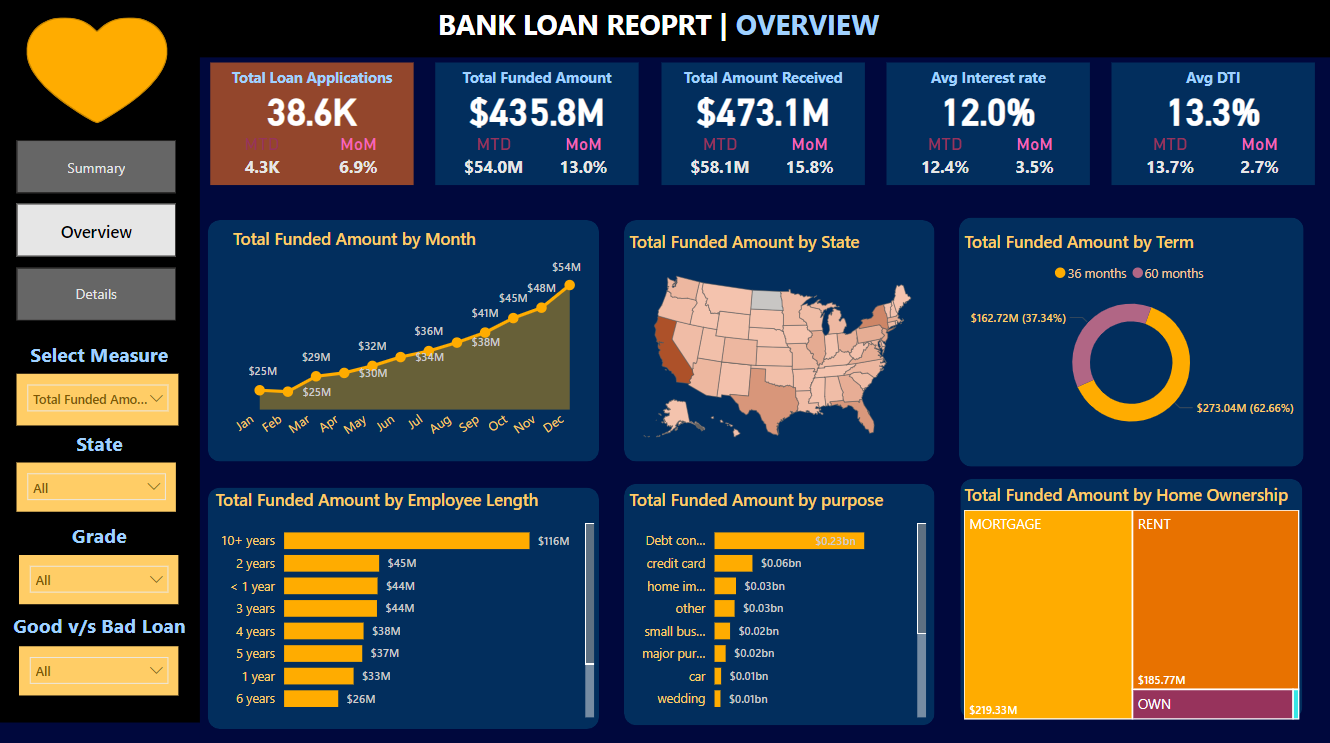

What the dashboard file says about the page in this screenshot:
{"tool":"powerbi","page":{"name":"Overview","canvas":[1280,720],"ordinal":1},"visuals":[{"type":"shape","title":"cassa","box":[0,28.4,192.6,664.2],"z":0},{"type":"shape","box":[202.5,60,195,117.5],"z":0,"group":"g1"},{"type":"shape","box":[418.7,60,195,117.5],"z":0,"group":"g2"},{"type":"shape","box":[635,60,195,117.5],"z":0,"group":"g3"},{"type":"shape","box":[851.2,60.3,195,117.5],"z":0,"group":"g4"},{"type":"shape","box":[1066.7,60.5,195,117.5],"z":0,"group":"g5"},{"type":"shape","box":[0,0,1280,55],"z":1000},{"type":"card","fields":{"Values":["bank_loan_data.Total Loan Applications"]},"box":[202.5,80,195,48.8],"z":1000,"group":"g1"},{"type":"card","fields":{"Values":["bank_loan_data.Total Funded Amount"]},"box":[418.7,80,195,48.8],"z":1000,"group":"g2"},{"type":"card","fields":{"Values":["bank_loan_data.Total Amount Received"]},"box":[635,80,195,48.8],"z":1000,"group":"g3"},{"type":"card","fields":{"Values":["bank_loan_data.Avg Interest Rate"]},"box":[851.2,80.3,195,48.8],"z":1000,"group":"g4"},{"type":"card","fields":{"Values":["bank_loan_data.Avg DTI"]},"box":[1066.7,80.5,195,48.8],"z":1000,"group":"g5"},{"type":"shape","box":[920.5,208.7,330.6,238.9],"z":1000,"group":"g8"},{"type":"shape","box":[200,211,375.2,231.6],"z":1000,"group":"g6"},{"type":"shape","box":[599.7,211.1,297.9,231.6],"z":1000,"group":"g7"},{"type":"shape","box":[921.1,459.3,328.2,230.4],"z":1000,"group":"g10"},{"type":"shape","box":[200.3,466.9,375.2,231.6],"z":1000,"group":"g9"},{"type":"textbox","box":[202.5,60,195,40],"z":2000,"group":"g1"},{"type":"textbox","box":[418.7,60,195,40],"z":2000,"group":"g2"},{"type":"textbox","box":[635,60,195,40],"z":2000,"group":"g3"},{"type":"textbox","box":[851.2,60.3,195,40],"z":2000,"group":"g4"},{"type":"textbox","box":[1066.7,60.5,195,40],"z":2000,"group":"g5"},{"type":"shape","box":[599.7,463.3,297.9,231.6],"z":2000},{"type":"textbox","box":[416.2,0,447.5,55],"z":3000},{"type":"card","title":"MTD","fields":{"Values":["bank_loan_data.MTD Loan Applications"]},"box":[222.5,128.8,58.8,46.2],"z":3000,"group":"g1"},{"type":"card","title":"MTD","fields":{"Values":["bank_loan_data.MTD Funded Amount"]},"box":[438.4,128.8,73.8,46.2],"z":3000,"group":"g2"},{"type":"card","title":"MTD","fields":{"Values":["bank_loan_data.MTD Total Amount Received"]},"box":[654.7,128.8,73.8,46.2],"z":3000,"group":"g3"},{"type":"card","title":"MTD","fields":{"Values":["bank_loan_data.MTD Avg Int Rate"]},"box":[870.9,129.1,73.8,46.2],"z":3000,"group":"g4"},{"type":"card","title":"MTD","fields":{"Values":["bank_loan_data.MTD Avg DTI"]},"box":[1086.4,129.3,73.8,46.2],"z":3000,"group":"g5"},{"type":"group","id":"g1","title":"Group 1","box":[202.5,60,195,117.5],"z":4000},{"type":"card","title":"MoM","fields":{"Values":["bank_loan_data.MoM Loan Application"]},"box":[315,128.8,58.8,46.2],"z":4000,"group":"g1"},{"type":"card","title":"MoM","fields":{"Values":["bank_loan_data.MoM Total Funded Amount"]},"box":[531.2,128.8,58.8,46.2],"z":4000,"group":"g2"},{"type":"card","title":"MoM","fields":{"Values":["bank_loan_data.MoM Total Amount Received"]},"box":[747.5,128.8,58.8,46.2],"z":4000,"group":"g3"},{"type":"card","title":"MoM","fields":{"Values":["bank_loan_data.MoM Avg Int Rate"]},"box":[963.7,129.1,58.8,46.2],"z":4000,"group":"g4"},{"type":"card","title":"MoM","fields":{"Values":["bank_loan_data.MoM Avg DTI"]},"box":[1179.2,129.3,58.8,46.2],"z":4000,"group":"g5"},{"type":"group","id":"g2","title":"Group 1","box":[418.7,60,195,117.5],"z":5000},{"type":"group","id":"g3","title":"Group 1","box":[635,60,195,117.5],"z":6000},{"type":"group","id":"g4","title":"Group 1","box":[851.2,60.3,194.2,117],"z":7000},{"type":"group","id":"g5","title":"Group 2","box":[1066.7,60.5,195,117.5],"z":8000},{"type":"slicer","fields":{"Values":["bank_loan_data.address_state"]},"box":[17.3,443.2,153.1,46.9],"z":9000},{"type":"textbox","box":[0,407.4,192.6,35.8],"z":10000},{"type":"slicer","fields":{"Values":["bank_loan_data.grade"]},"box":[19.8,532.1,153.1,46.9],"z":11000},{"type":"textbox","box":[0,496.3,192.6,35.8],"z":12000},{"type":"slicer","fields":{"Values":["bank_loan_data.Good v/s Bad Loans"]},"box":[19.8,619.8,153.1,46.9],"z":13000},{"type":"textbox","box":[0,582.7,192.6,35.8],"z":14000},{"type":"slicer","fields":{"Values":["Select Measure.Select Measure"]},"box":[17.3,358,155.6,49.4],"z":15000},{"type":"textbox","box":[4.9,322.2,182.7,35.8],"z":16000},{"type":"group","id":"g6","title":"Group 3","box":[200,211,375.2,231.6],"z":17000},{"type":"group","id":"g7","title":"Group 4","box":[599.6,211.1,298,231.6],"z":18000},{"type":"shapeMap","fields":{"Value":["bank_loan_data.Total Funded Amount"],"Category":["bank_loan_data.address_state"]},"box":[599.6,220.7,294.5,221.5],"z":18000,"group":"g7"},{"type":"group","id":"g8","title":"Group 3","box":[920.5,208.7,330.6,238.9],"z":19000},{"type":"donutChart","fields":{"Y":["bank_loan_data.Total Funded Amount"],"Category":["bank_loan_data.term"]},"box":[920.5,220.8,330.6,205.1],"z":20000},{"type":"group","id":"g9","title":"Group 3","box":[200.3,466.9,375.2,231.6],"z":21000},{"type":"barChart","fields":{"Y":["bank_loan_data.Total Funded Amount"],"Category":["bank_loan_data.emp_length"]},"box":[202.7,466.9,372.8,225.6],"z":22000},{"type":"barChart","fields":{"Y":["bank_loan_data.Total Funded Amount"],"Category":["bank_loan_data.purpose"]},"box":[599.6,466.9,294.4,225.6],"z":23000},{"type":"group","id":"g10","title":"Group 3","box":[921.1,459.3,328.2,230.4],"z":24000},{"type":"treemap","fields":{"Values":["bank_loan_data.Total Funded Amount"],"Group":["bank_loan_data.home_ownership"]},"box":[921,463,331,232],"z":25000},{"type":"pageNavigator","box":[16.9,133.9,153.2,174.9],"z":26000},{"type":"areaChart","fields":{"Y":["bank_loan_data.Total Funded Amount"],"Category":["Date Table.Month"]},"box":[219.3,217,343.8,222],"z":26001,"group":"g6"},{"type":"shape","box":[26.5,16.9,135.1,101.3],"z":27000}]}

Visuals, with their boxes in screenshot pixels (x1, y1, x2, y2), scaled from the page's 1280x720 canvas onto the 1330x743 screenshot:
"cassa" shape: 0/29/200/715
shape: 210/62/413/183
shape: 435/62/638/183
shape: 660/62/862/183
shape: 884/62/1087/183
shape: 1108/62/1311/184
shape: 0/0/1329/57
card - bank_loan_data.Total Loan Applications: 210/83/413/133
card - bank_loan_data.Total Funded Amount: 435/83/638/133
card - bank_loan_data.Total Amount Received: 660/83/862/133
card - bank_loan_data.Avg Interest Rate: 884/83/1087/133
card - bank_loan_data.Avg DTI: 1108/83/1311/133
shape: 956/215/1300/462
shape: 208/218/598/457
shape: 623/218/933/457
shape: 957/474/1298/712
shape: 208/482/598/721
textbox: 210/62/413/103
textbox: 435/62/638/103
textbox: 660/62/862/103
textbox: 884/62/1087/104
textbox: 1108/62/1311/104
shape: 623/478/933/717
textbox: 432/0/897/57
"MTD" card: 231/133/292/181
"MTD" card: 456/133/532/181
"MTD" card: 680/133/757/181
"MTD" card: 905/133/982/181
"MTD" card: 1129/133/1206/181
"Group 1" group: 210/62/413/183
"MoM" card: 327/133/388/181
"MoM" card: 552/133/613/181
"MoM" card: 777/133/838/181
"MoM" card: 1001/133/1062/181
"MoM" card: 1225/133/1286/181
"Group 1" group: 435/62/638/183
"Group 1" group: 660/62/862/183
"Group 1" group: 884/62/1086/183
"Group 2" group: 1108/62/1311/184
slicer - bank_loan_data.address_state: 18/457/177/506
textbox: 0/420/200/457
slicer - bank_loan_data.grade: 21/549/180/597
textbox: 0/512/200/549
slicer - bank_loan_data.Good v/s Bad Loans: 21/640/180/688
textbox: 0/601/200/638
slicer - Select Measure.Select Measure: 18/369/180/420
textbox: 5/332/195/369
"Group 3" group: 208/218/598/457
"Group 4" group: 623/218/933/457
shapeMap - bank_loan_data.Total Funded Amount x bank_loan_data.address_state: 623/228/929/456
"Group 3" group: 956/215/1300/462
donutChart - bank_loan_data.Total Funded Amount x bank_loan_data.term: 956/228/1300/440
"Group 3" group: 208/482/598/721
barChart - bank_loan_data.Total Funded Amount x bank_loan_data.emp_length: 211/482/598/715
barChart - bank_loan_data.Total Funded Amount x bank_loan_data.purpose: 623/482/929/715
"Group 3" group: 957/474/1298/712
treemap - bank_loan_data.Total Funded Amount x bank_loan_data.home_ownership: 957/478/1301/717
pageNavigator: 18/138/177/319
areaChart - bank_loan_data.Total Funded Amount x Date Table.Month: 228/224/585/453
shape: 28/17/168/122
